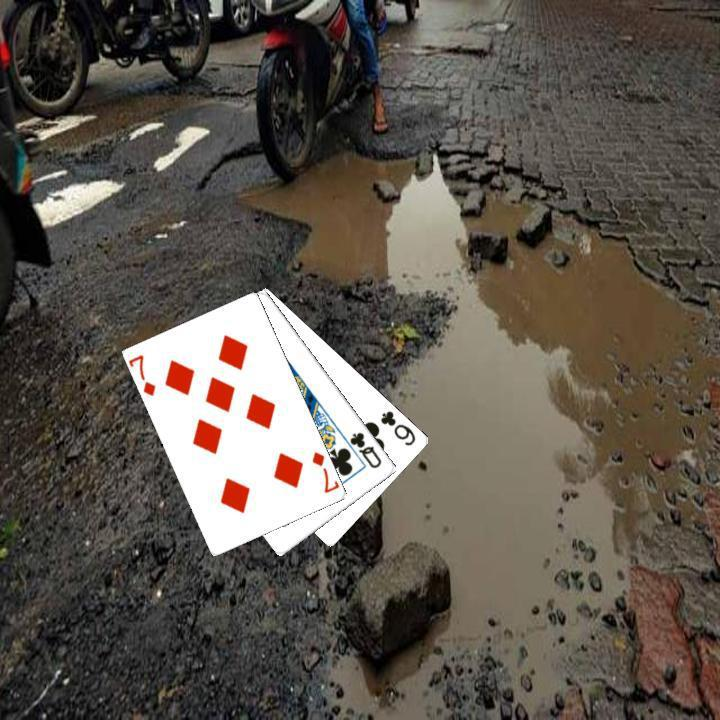6: (376, 406, 418, 448)
7: (308, 447, 340, 495), (126, 350, 158, 398)
Q: (346, 428, 384, 471)
